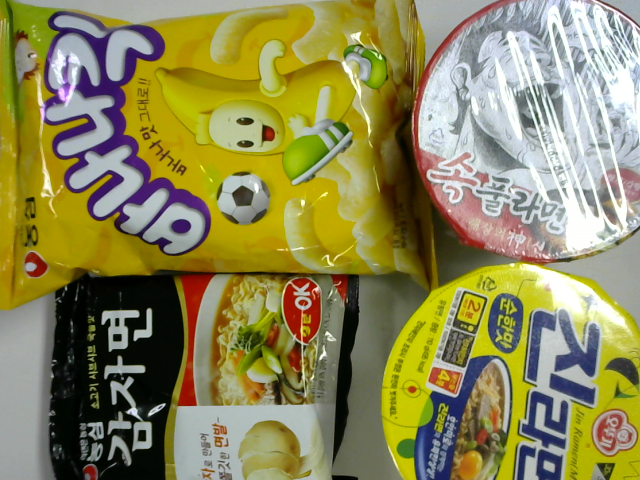Banana_Kick: (1, 2, 440, 309)
Hejangpul: (412, 1, 639, 265)
Jinlamyeon_Mild_Taste_Large_Cup: (381, 263, 640, 479)
Potato: (47, 270, 359, 480)
